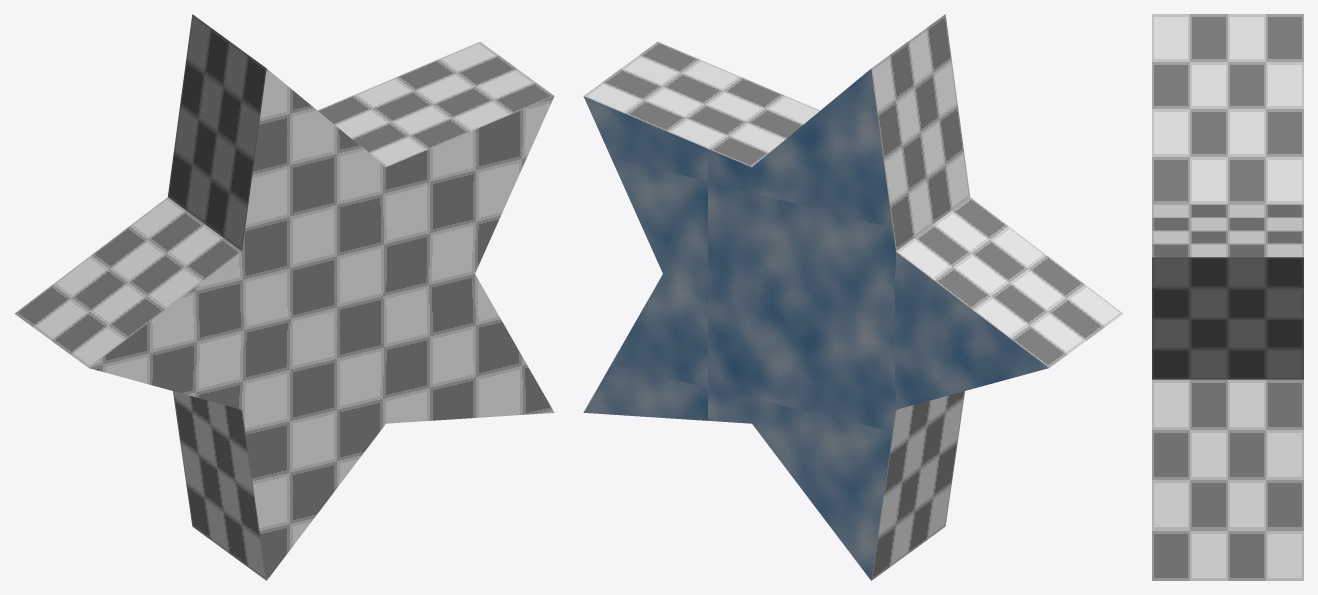
The model's file is 14_star.obj.
3 views of the same model, side by side, from view 1: azimuth 30°, elevation 25°; view 2: azimuth 150°, elevation 25°; view 3: azimuth 270°, elevation 25° (orthographic). The views are drawn at different scales.
Parts seen in each view (by area): view 1: Star.001; view 2: Star.001; view 3: Star.001.
Part boxes in pixels (left/top/right/bottom): Star.001: left=14, top=14, right=554, bottom=580; Star.001: left=583, top=14, right=1123, bottom=580; Star.001: left=1152, top=14, right=1303, bottom=580.
Size of the model in its own units: 1.81 by 1.9 by 0.5.
Materials: 3 (3 with a texture image).
